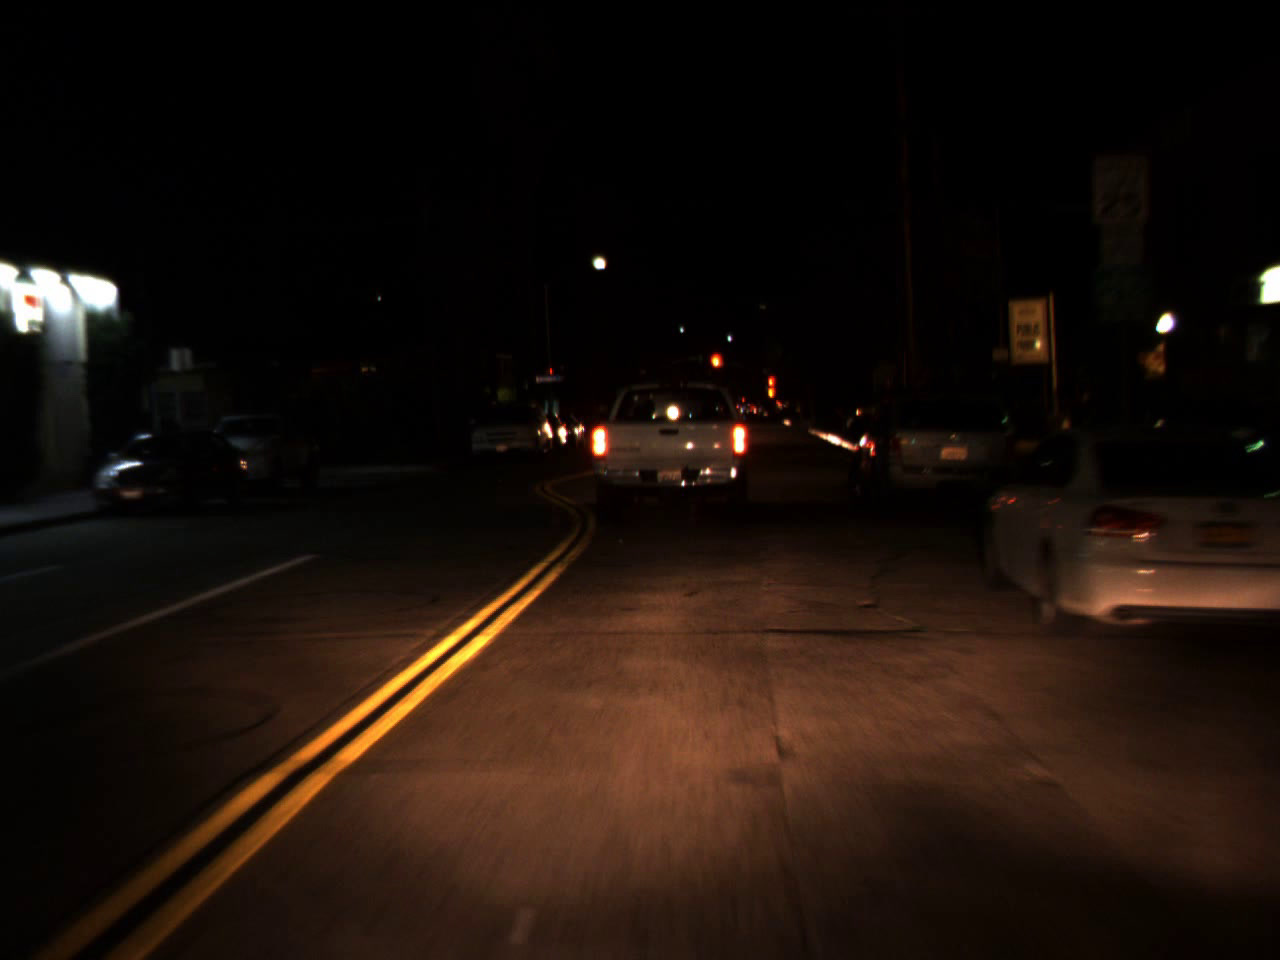stop: (708, 352, 723, 381), (767, 376, 779, 400)
